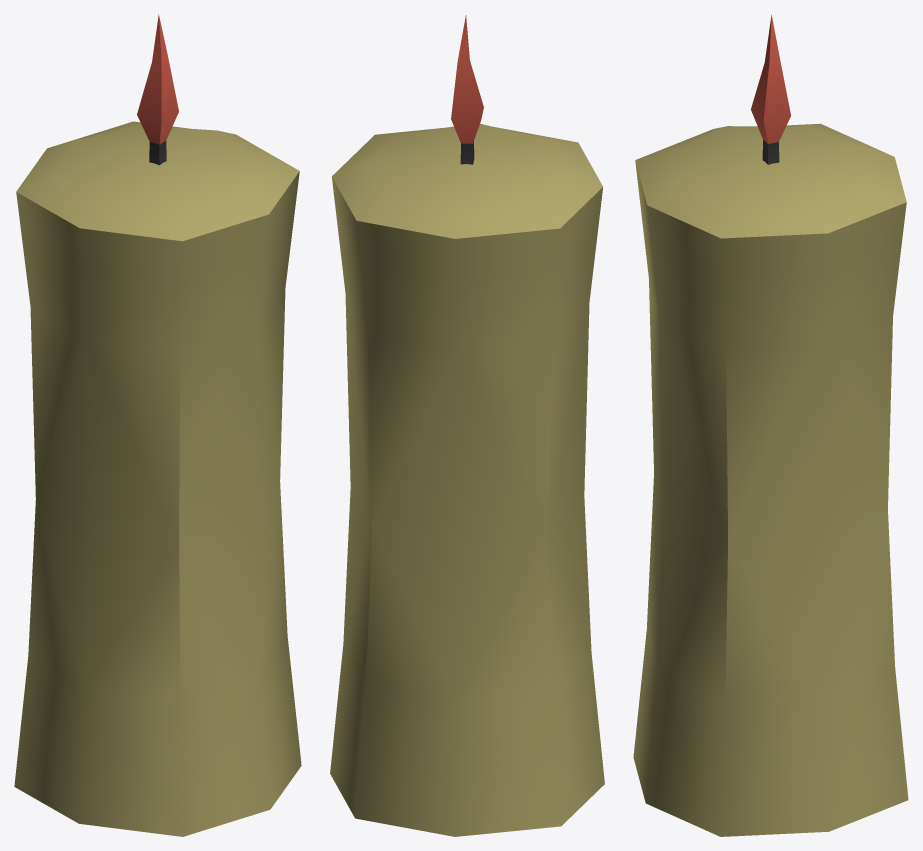
File: Candles_4.glb
3 views of the same model, side by side, from view 1: azimuth 30°, elevation 25°; view 2: azimuth 150°, elevation 25°; view 3: azimuth 270°, elevation 25° (orthographic).
Parts seen in each view (by area): view 1: Candles_1.003; view 2: Candles_1.003; view 3: Candles_1.003.
Boxes of the visible parts, x1,y1,x2,y2 form: Candles_1.003: (14, 14, 301, 836); Candles_1.003: (330, 15, 604, 836); Candles_1.003: (633, 15, 908, 836).
Bounding box in the file's own units: 0.1885 × 0.5787 × 0.1885.
